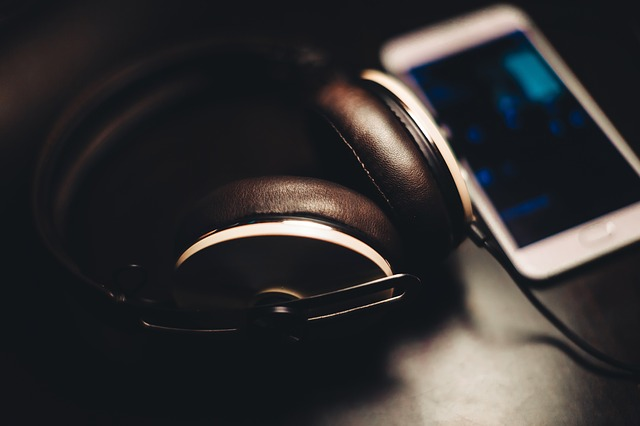headphones: (17, 31, 477, 355)
